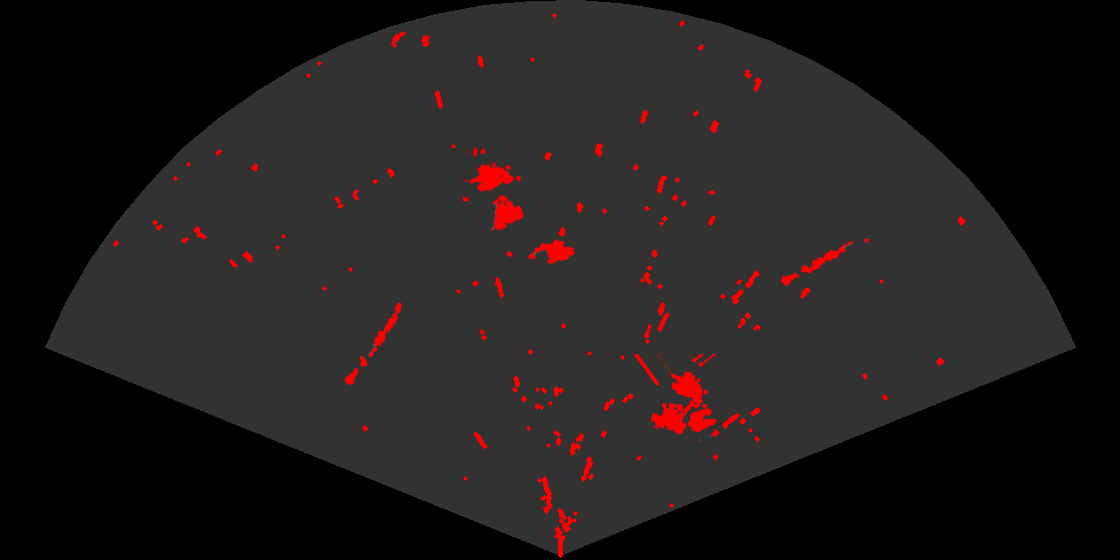AUV: (527, 238, 577, 266)
ball: (686, 406, 721, 443)
cage: (632, 354, 718, 436), (463, 148, 526, 233)
chain: (343, 301, 403, 387), (779, 237, 871, 288)
